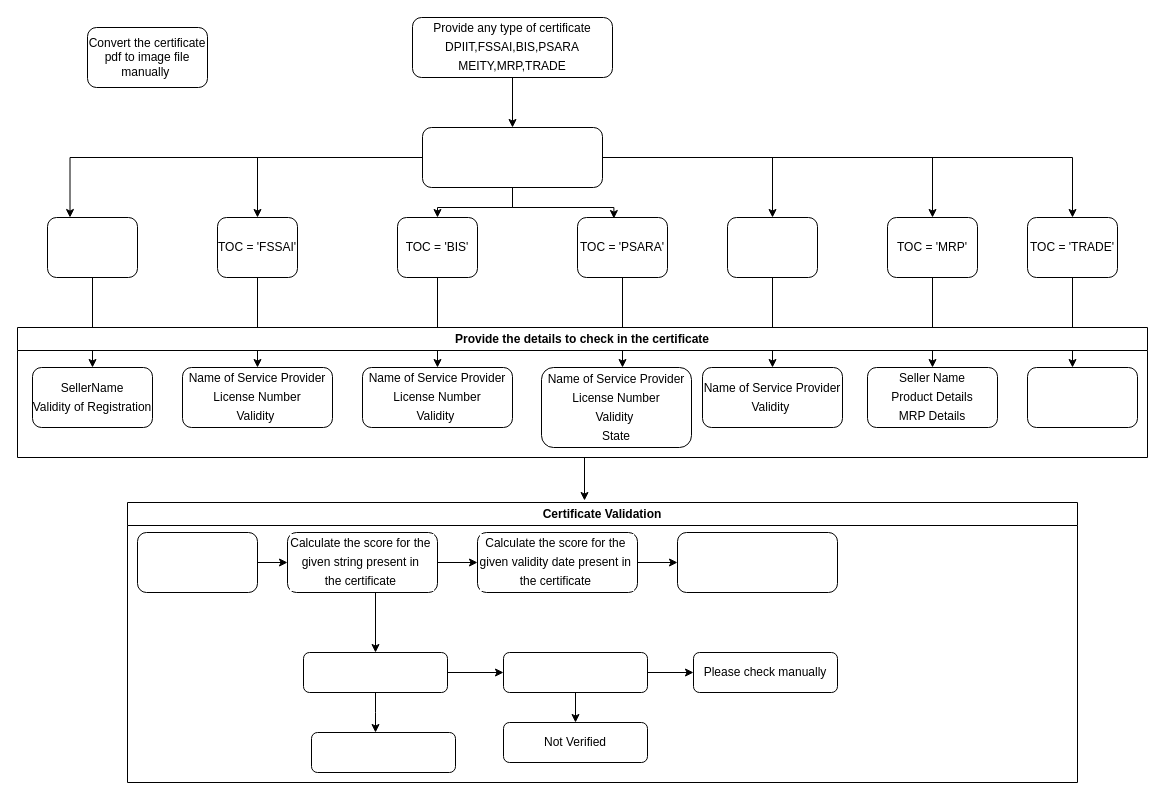
This 1165x800 diagram has some shape labels left out. The shapes that lost their labels are listed below. From the top down, each one's centre as x and y in pixels, then its label:
the point at 512,157: Upload any certificate image file DPIIT,FSSAI,BIS,PSARA MEITY, MRP,TRADE
the point at 92,247: TOC = 'DPIIT'
the point at 772,247: TOC = 'MEITY'
the point at 1082,397: Seller Name Trade mark year act
the point at 197,562: Convert image to text
the point at 757,562: Calculate the consolidated score
the point at 375,672: Score > 80
the point at 575,672: Score < 80 & Score > 60
the point at 383,752: Verified
